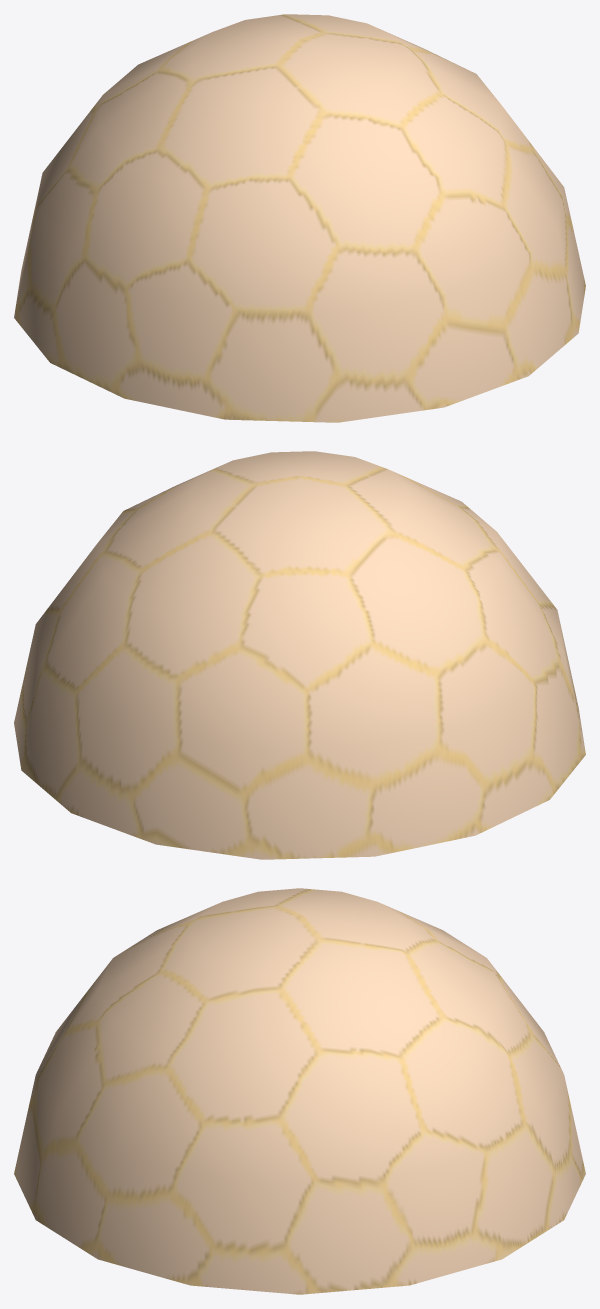
File: half_sphere_02.FBX
3 views of the same model, one above another, from view 1: azimuth 30°, elevation 25°; view 2: azimuth 150°, elevation 25°; view 3: azimuth 270°, elevation 25° (orthographic).
Visible parts, largest first — view 1: Sphere001; view 2: Sphere001; view 3: Sphere001.
Boxes of the visible parts, x1,y1,x2,y2 form: Sphere001: [14, 14, 585, 422]; Sphere001: [14, 451, 585, 859]; Sphere001: [14, 888, 585, 1294].
Bounding box in the file's own units: 314 × 157 × 314.
